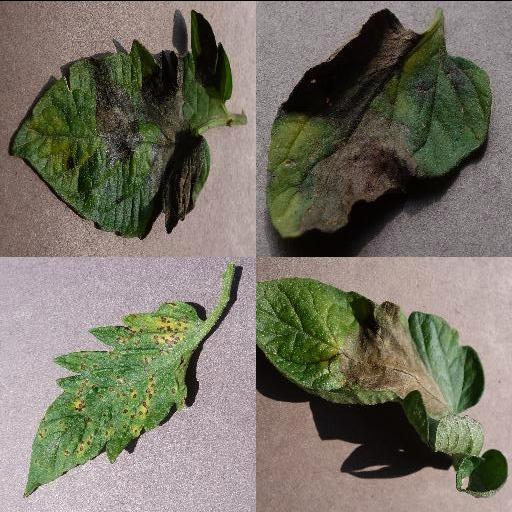Late Blight: (266, 6, 494, 238), (9, 7, 233, 239), (256, 274, 485, 456)
Septoria: (22, 299, 204, 493)
